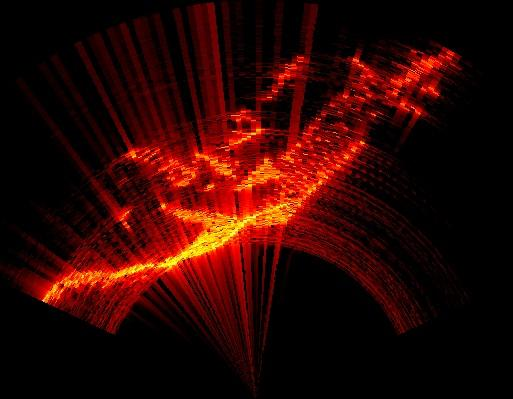shipwreck: (46, 53, 455, 300)
